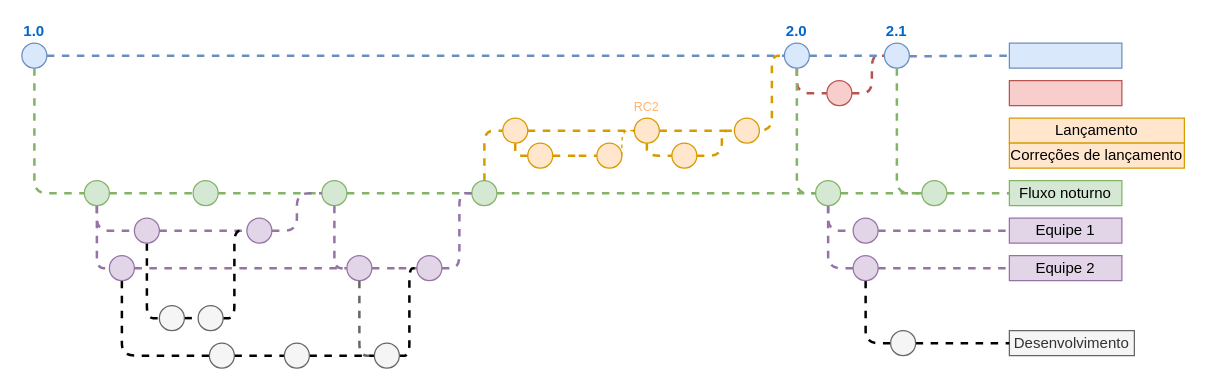
Some shapes in this 1206 by 390 pixel diagram are drawn without their labels. The shapes that lost their labels are listed below. From the top down, each one's centre as x and y in pixels, then its label:
At (x=1065, y=55): "Master".
At (x=1065, y=92): "Correções".
At (x=515, y=130): "RC1".
At (x=746, y=130): "RC3".
